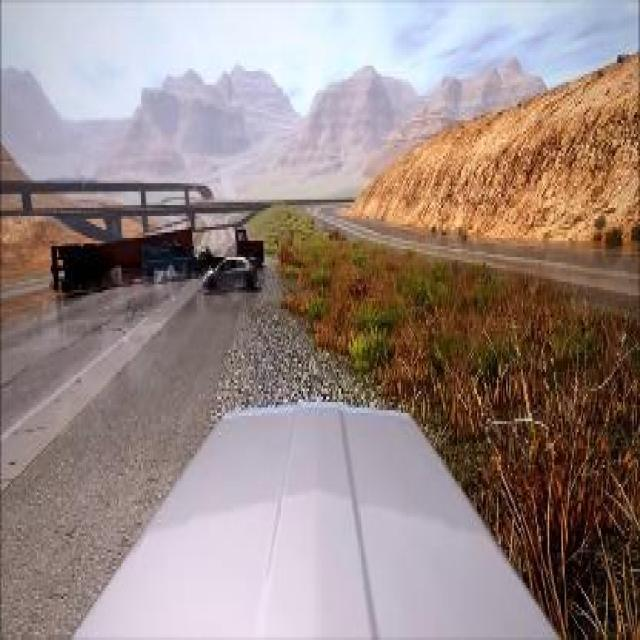accident: (42, 218, 198, 304)
